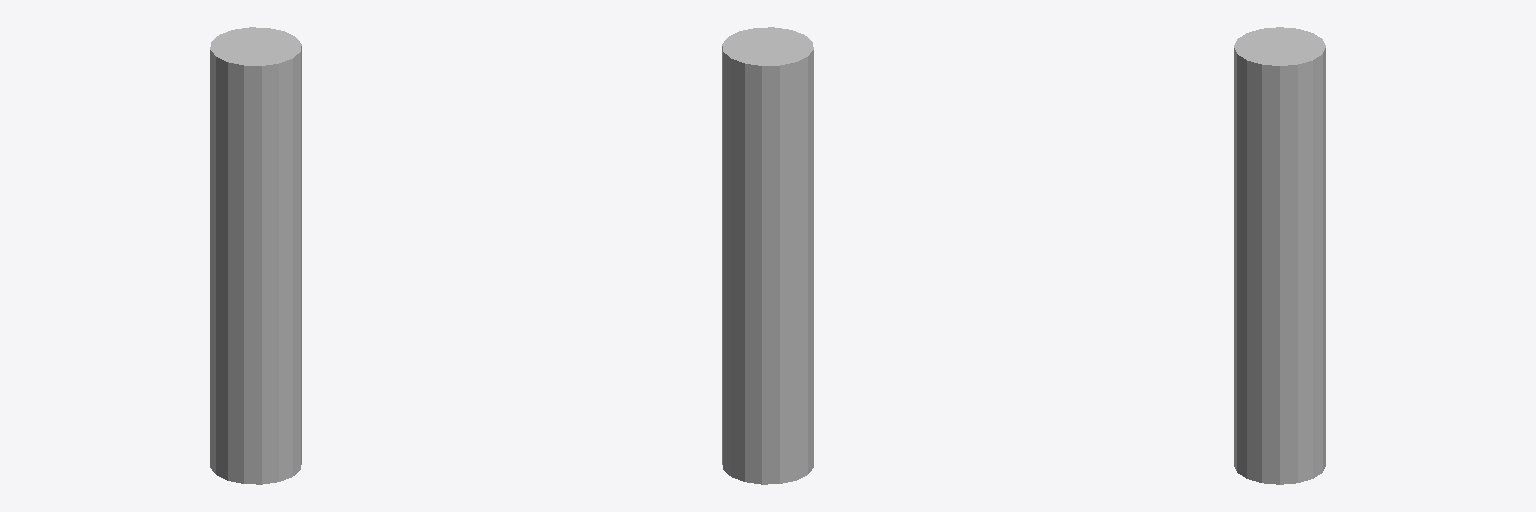
File: lms_post_tube_mid.obj
3 renders of one model, left to right at view 1: azimuth 30°, elevation 25°; view 2: azimuth 150°, elevation 25°; view 3: azimuth 270°, elevation 25°, orthographic.
Visible parts, largest first — view 1: Tubular_Steel_Cylinder; view 2: Tubular_Steel_Cylinder; view 3: Tubular_Steel_Cylinder.
Part boxes in pixels (left/top/right/bottom): Tubular_Steel_Cylinder: left=210, top=27, right=301, bottom=484; Tubular_Steel_Cylinder: left=722, top=27, right=813, bottom=484; Tubular_Steel_Cylinder: left=1234, top=27, right=1325, bottom=484.
Size of the model in its own units: 0.2 by 1 by 0.2.